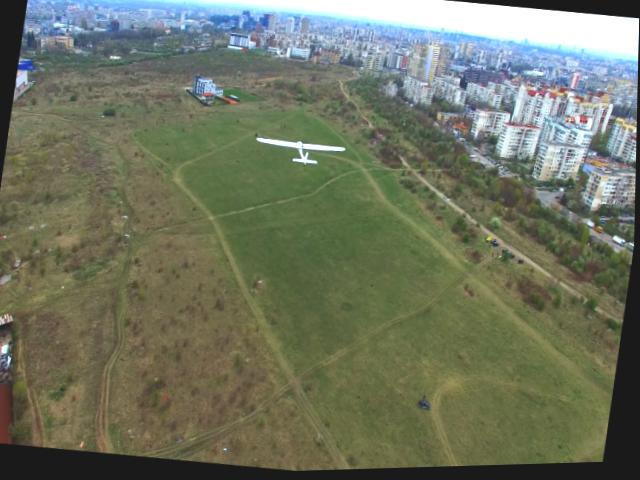plane: (253, 132, 348, 172)
